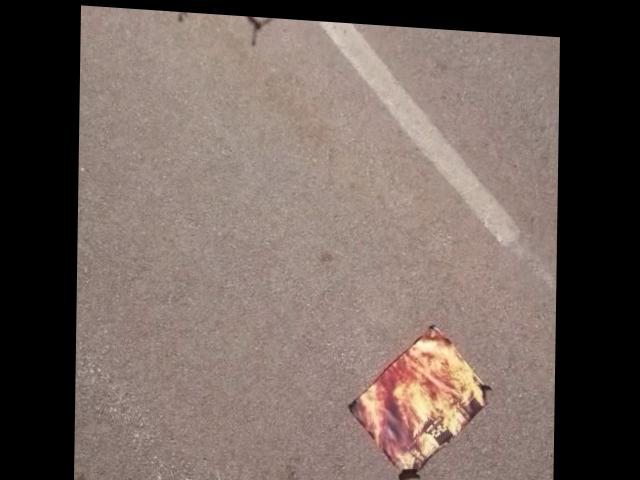fire-poster: (346, 313, 497, 480)
